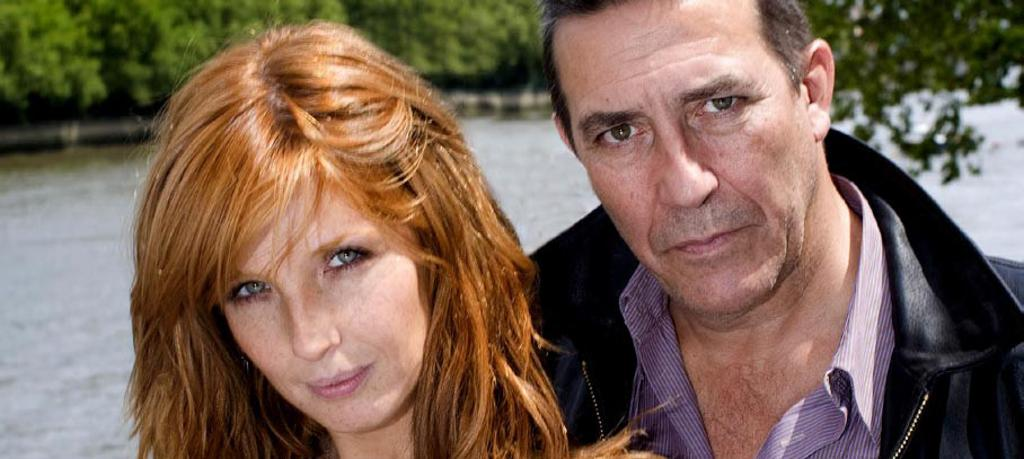face: (560, 14, 810, 302), (210, 144, 434, 426)
